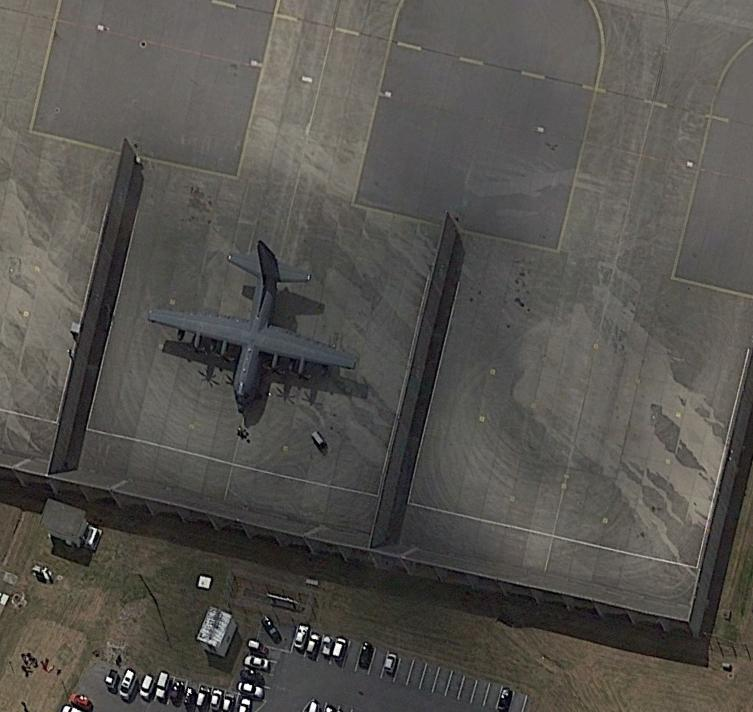A2: (141, 230, 360, 420)
